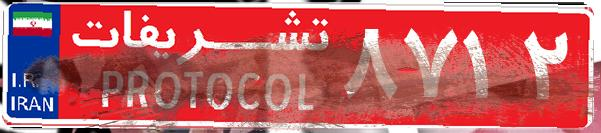1: (460, 20, 520, 115)
2: (520, 20, 580, 115)
7: (400, 20, 460, 115)
8: (340, 20, 400, 115)
تشریفات: (60, 8, 340, 125)
